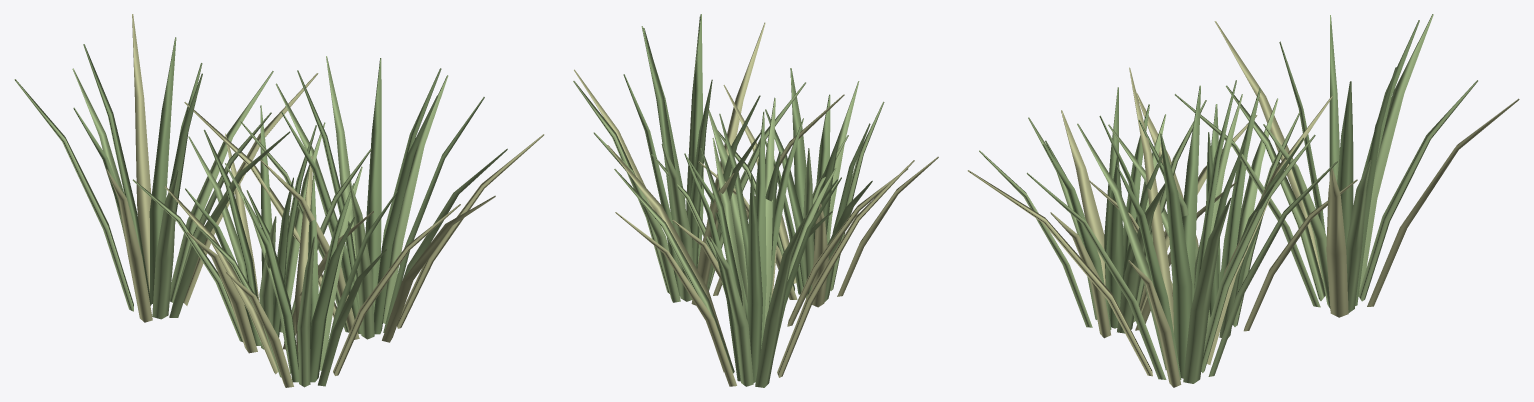
The model's file is campo_grass_1.glb.
3 renders of one model, left to right at view 1: azimuth 30°, elevation 25°; view 2: azimuth 150°, elevation 25°; view 3: azimuth 270°, elevation 25°, orthographic. The views are drawn at different scales.
Visible parts, largest first — view 1: CampoGrassFresh, CampoGrassDeep, CampoGrassGold; view 2: CampoGrassDeep, CampoGrassFresh, CampoGrassGold; view 3: CampoGrassFresh, CampoGrassDeep, CampoGrassGold.
Boxes of the visible parts, bbox=[...] form: CampoGrassFresh: bbox=[14, 56, 507, 387]; CampoGrassDeep: bbox=[73, 37, 484, 382]; CampoGrassGold: bbox=[106, 14, 544, 387]; CampoGrassDeep: bbox=[623, 14, 870, 382]; CampoGrassFresh: bbox=[573, 17, 884, 387]; CampoGrassGold: bbox=[574, 22, 938, 386]; CampoGrassFresh: bbox=[979, 14, 1477, 383]; CampoGrassDeep: bbox=[1043, 15, 1419, 379]; CampoGrassGold: bbox=[967, 21, 1519, 387].
Size of the model in its own units: 1.08 by 0.6677 by 1.22.
